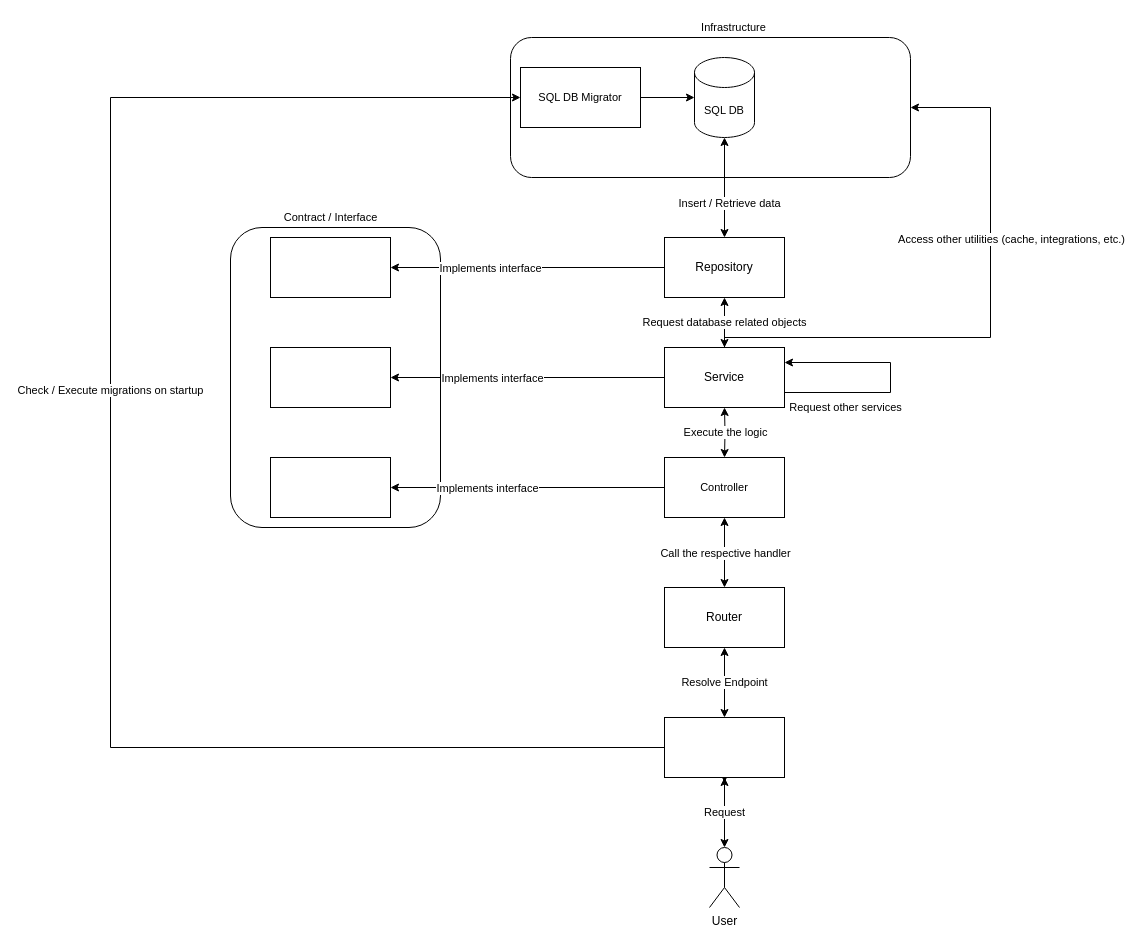
Some shapes in this 1142 by 945 pixel diagram are drawn without their labels. The centre of each missing label's shape, as x and y in pixels:
API Server: the point at 724,747
Controller Contract: the point at 330,487
Repository Contract: the point at 330,267
Service Contract: the point at 330,377
